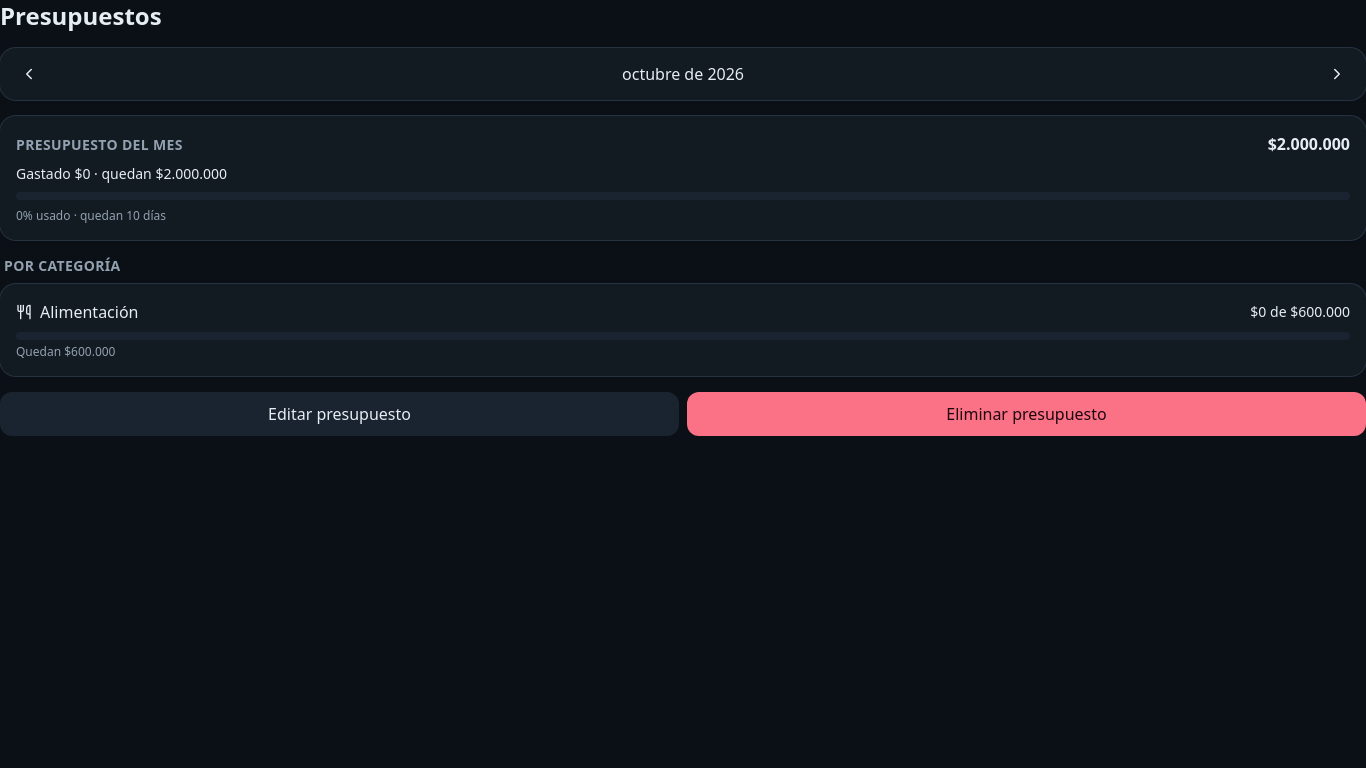
Test: BudgetsPage (spec 8.9) › explains a sub-limit when the parent is already a line
The width and height of the screenshot is (1366, 768).
Click the button "Editar presupuesto" at (340, 414), box [0,392,679,436]
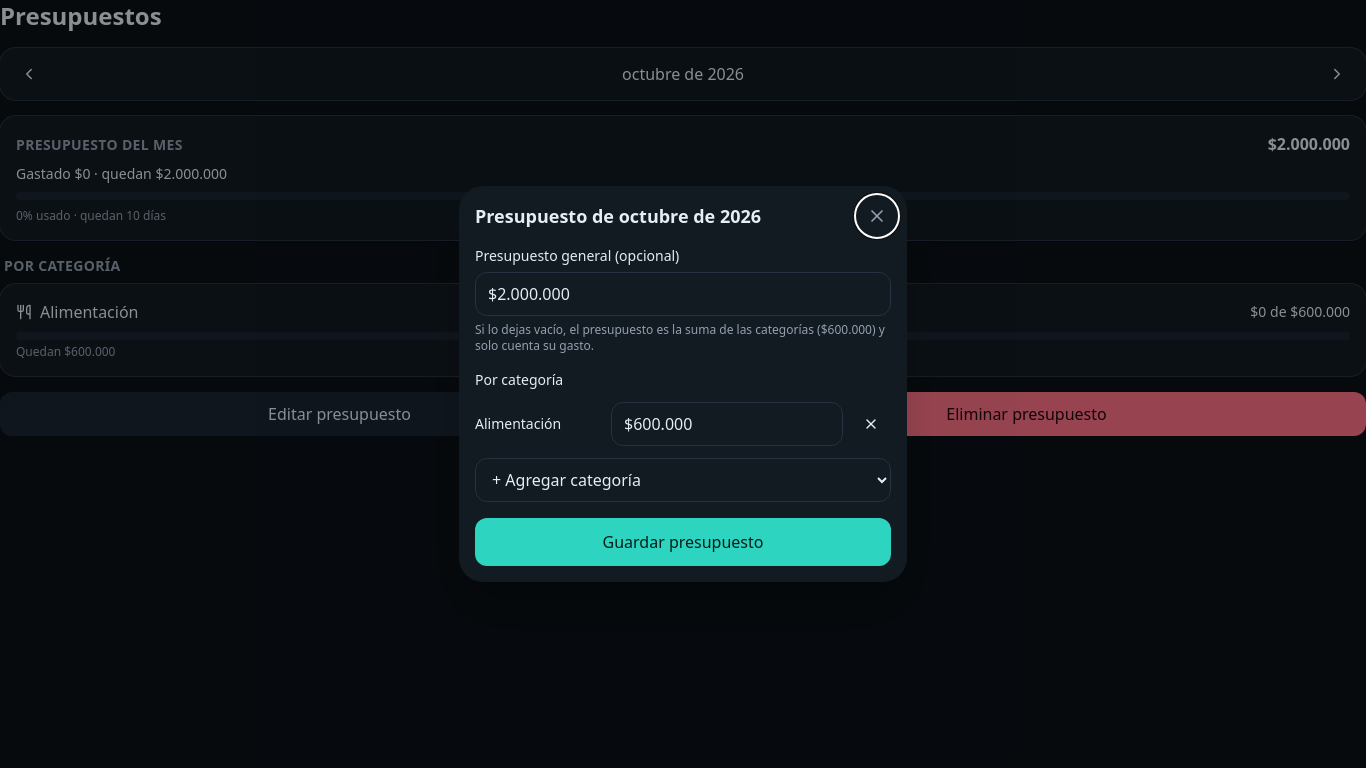
Select "— Mercado" in the dropdown named "Agregar categoría" at (683, 480), box [475,458,891,502]
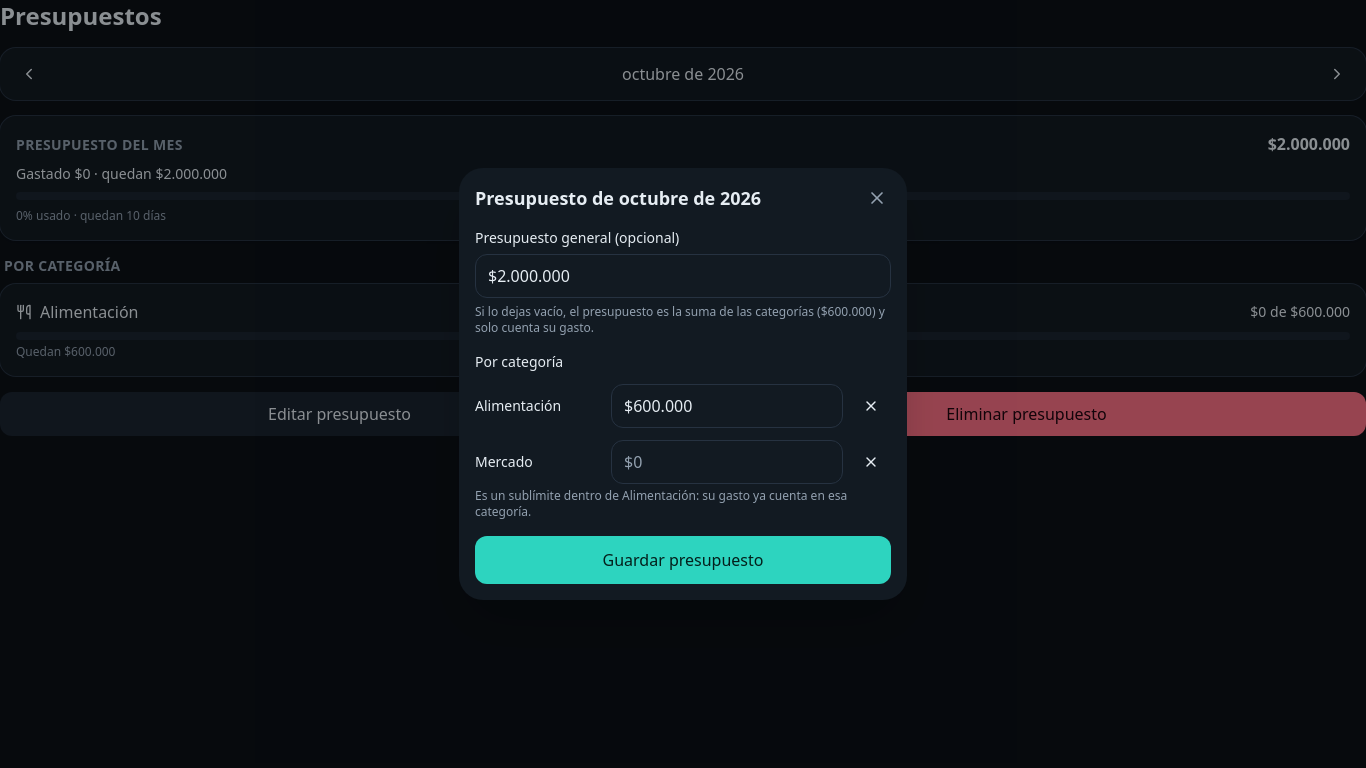
Expected: the text "sublímite dentro de Alimentación" is shown, [475,488,891,520]
